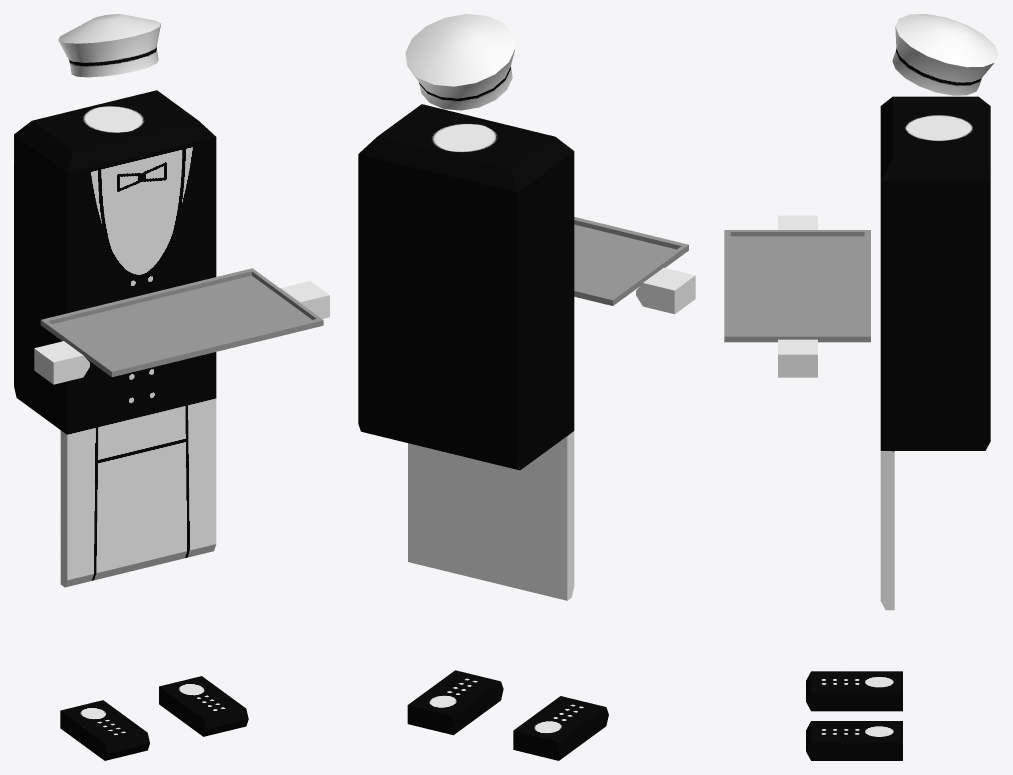
The model's file is Waiter.fbx.
The picture shows the model from 3 angles, left to right: view 1: azimuth 30°, elevation 25°; view 2: azimuth 150°, elevation 25°; view 3: azimuth 270°, elevation 25°; orthographic projection. The views are drawn at different scales.
Parts seen in each view (by area): view 1: Waiter; view 2: Waiter; view 3: Waiter.
Part boxes in pixels (x1,y1,x2,y2): Waiter: [14, 14, 329, 760]; Waiter: [358, 14, 695, 760]; Waiter: [724, 14, 998, 760].
Bounding box in the file's own units: 209 × 492 × 174.
Materials: 3 (2 with a texture image).
